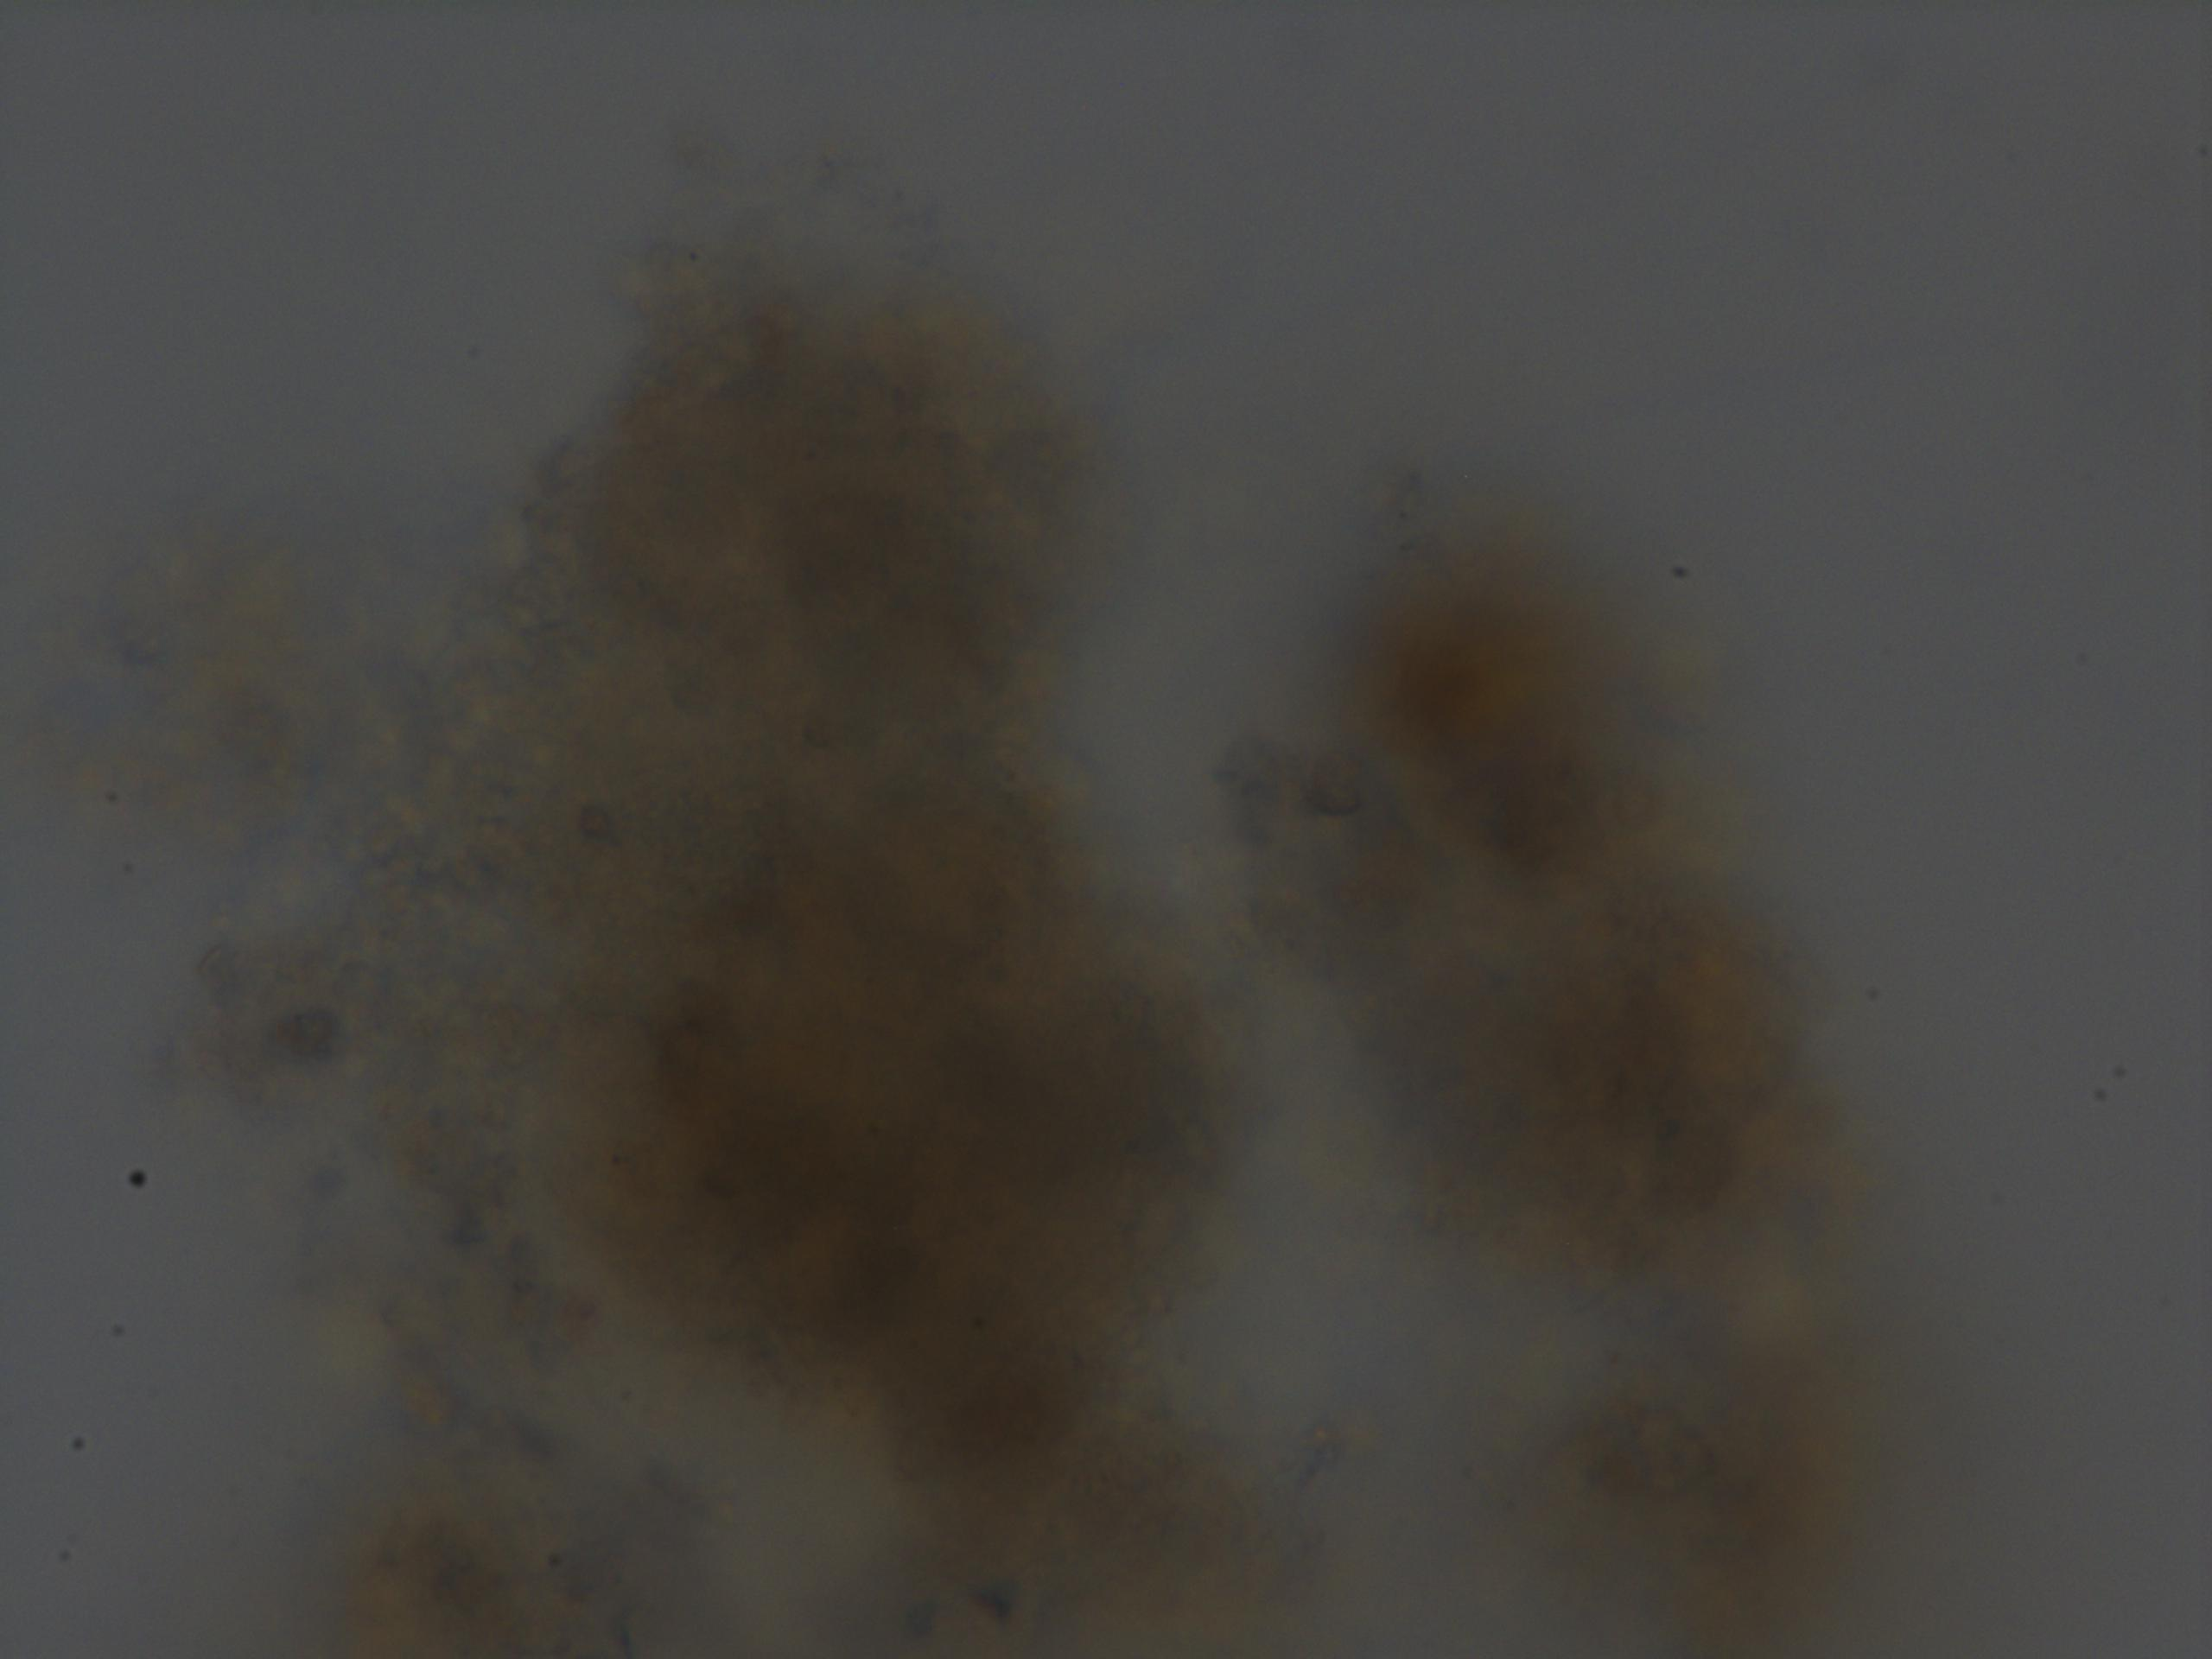open_floc: (273, 213, 1851, 1659)
